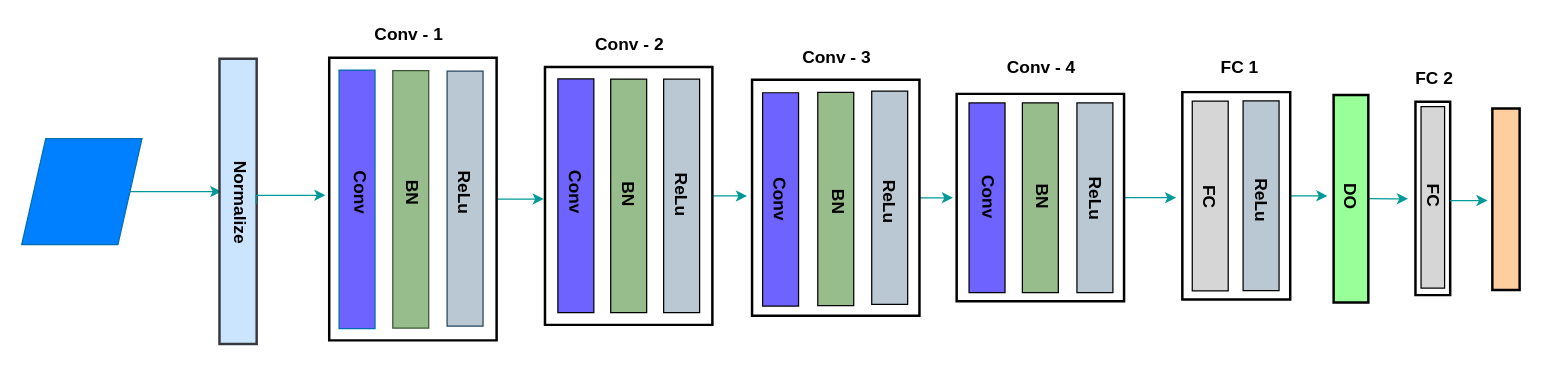
This 1556x366 diagram has some shape labels left out. Here are the shapes that lost their labels. From the top down, the box of each, then its label:
(20, 137, 142, 245): EEG Signals
(1490, 107, 1520, 291): Softmax
